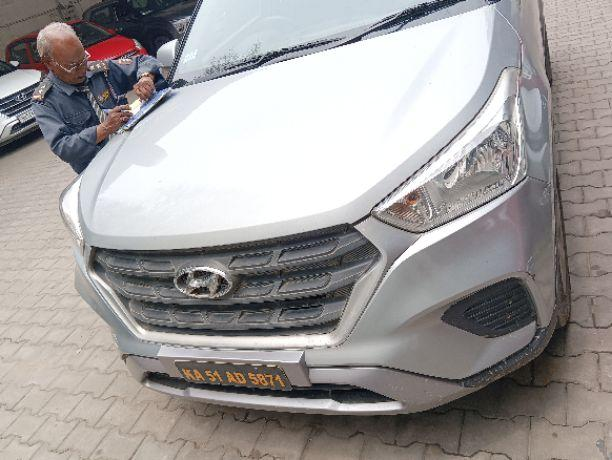license_plate: (173, 358, 293, 392)
